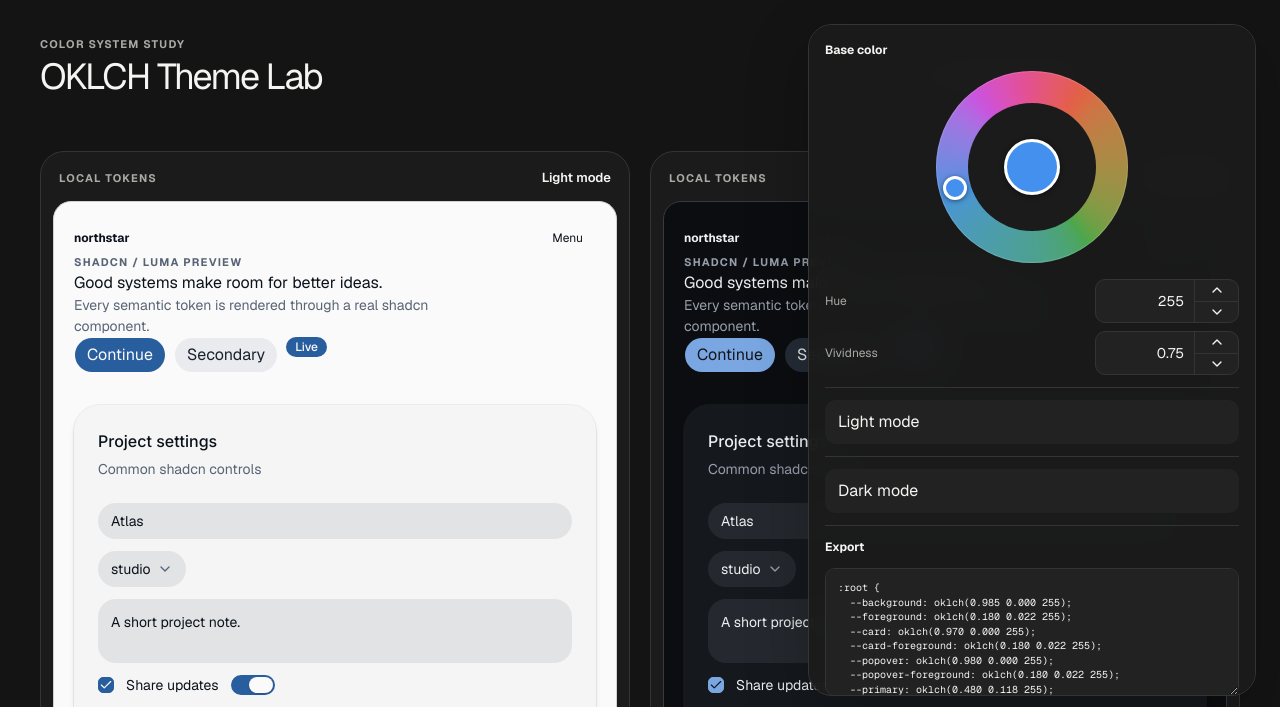
keeps the last valid value when a surface control receives invalid input
Click the button "Light mode".
click(879, 422)  # box [825, 400, 1239, 444]
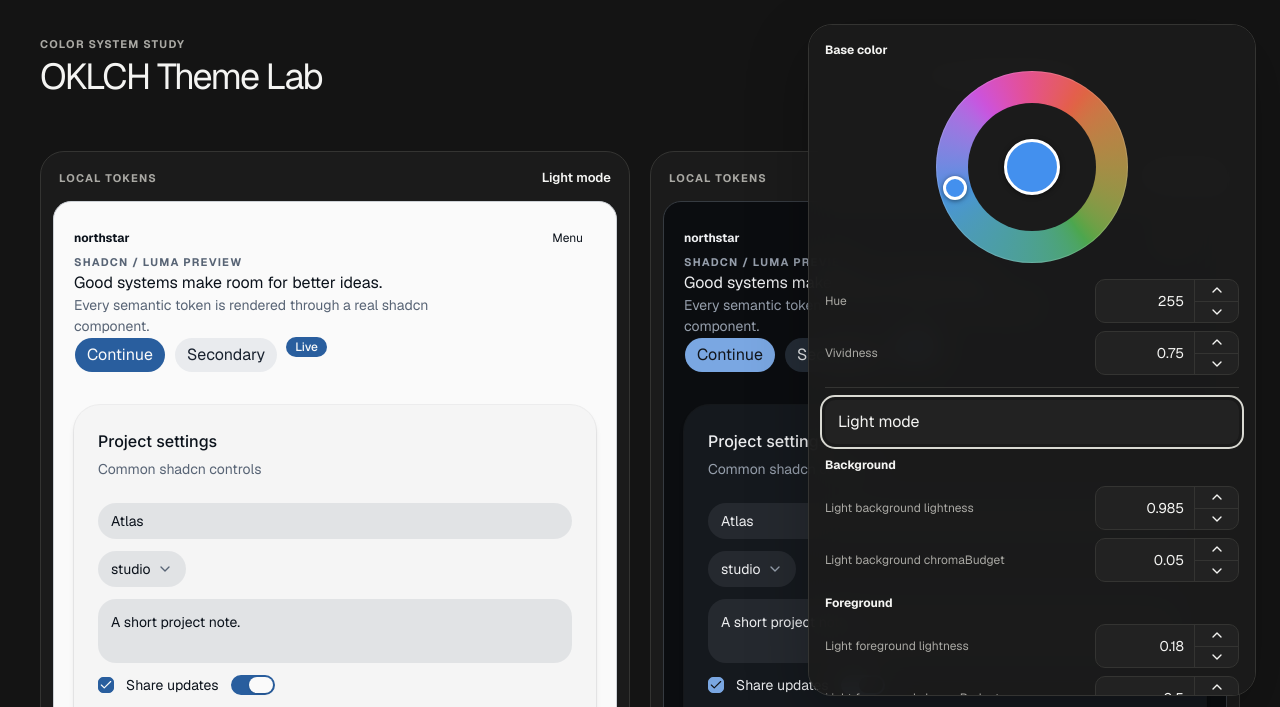
Replace the text in the field labelled "Light background lightness" with "not-a-number" at (1145,508), box [1096, 487, 1194, 529]
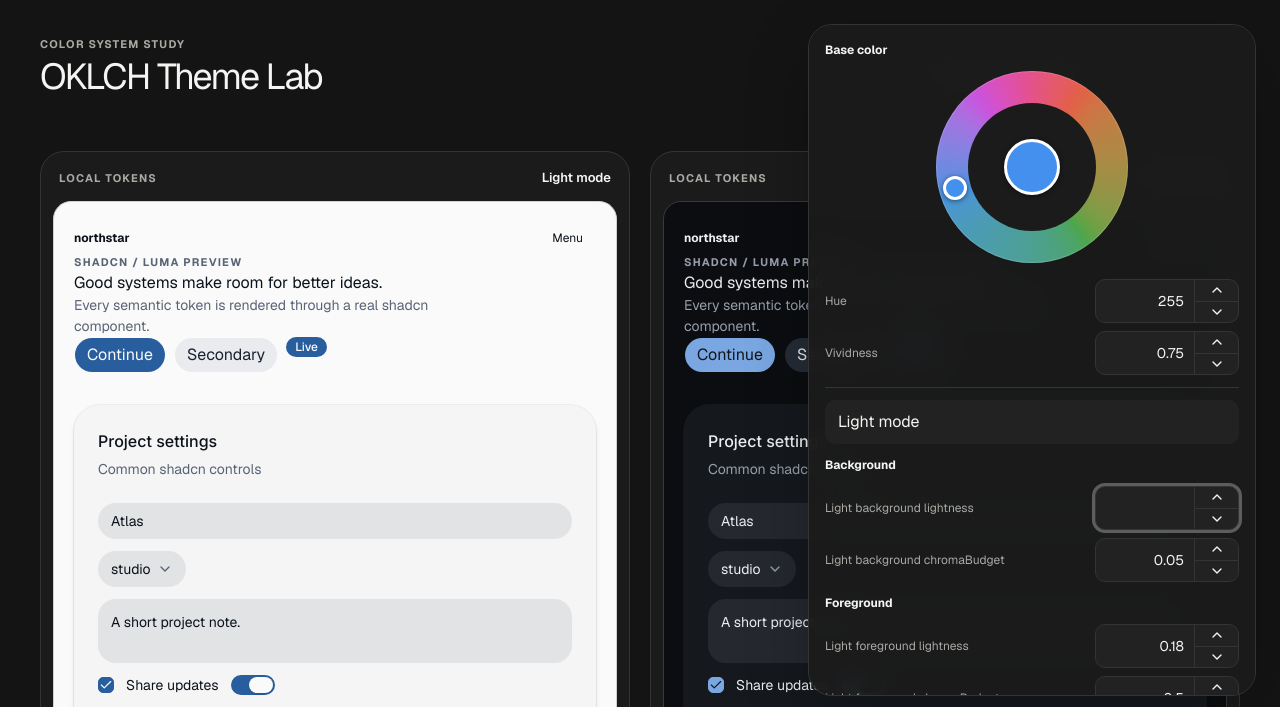
Press Tab
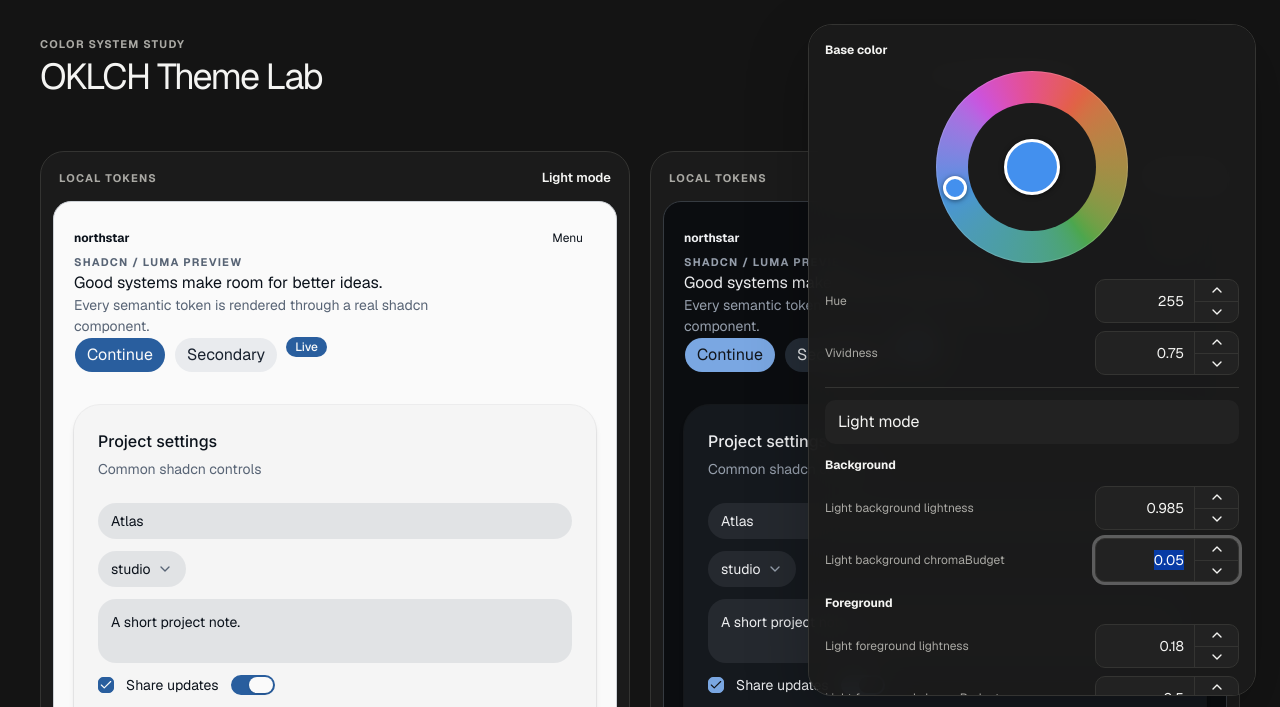
expect the field labelled "Light background lightness" holds "0.985": met, box [1096, 487, 1194, 529]
